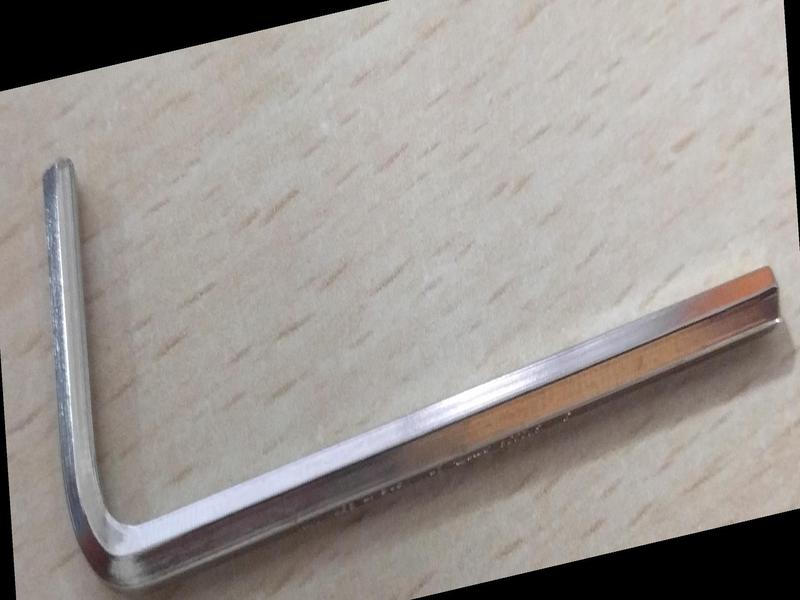turner: (19, 150, 794, 597)
